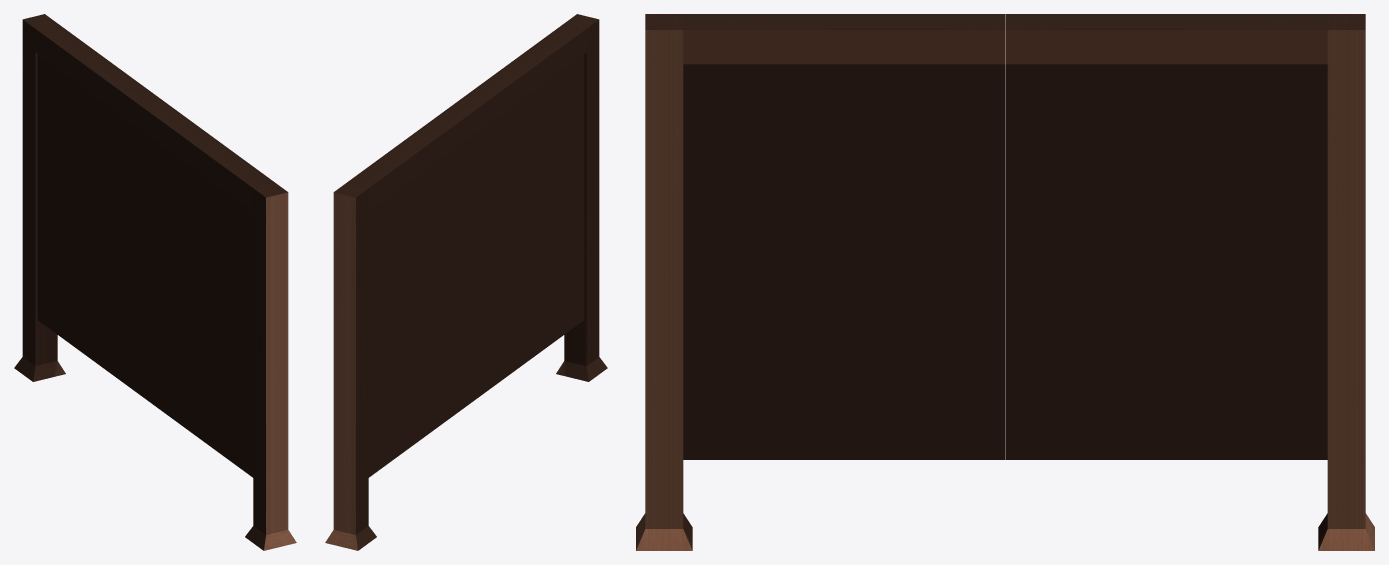
Rendered from boardbake.glb.
3 renders of one model, left to right at view 1: azimuth 30°, elevation 25°; view 2: azimuth 150°, elevation 25°; view 3: azimuth 270°, elevation 25°, orthographic. The views are drawn at different scales.
Visible parts, largest first — view 1: Cube; view 2: Cube; view 3: Cube.
Part boxes in pixels (x1,y1,x2,y2): Cube: (14, 14, 296, 550); Cube: (325, 14, 607, 550); Cube: (636, 14, 1374, 550).
Bounding box in the file's own units: 2.97 × 29.99 × 38.84.
1 material, 1 textured.
